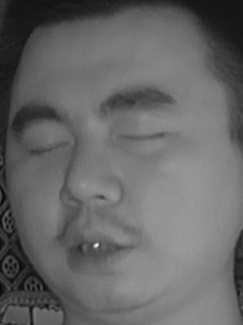blink: (109, 118, 170, 157), (24, 128, 72, 162)
mouth: (48, 216, 141, 279)
